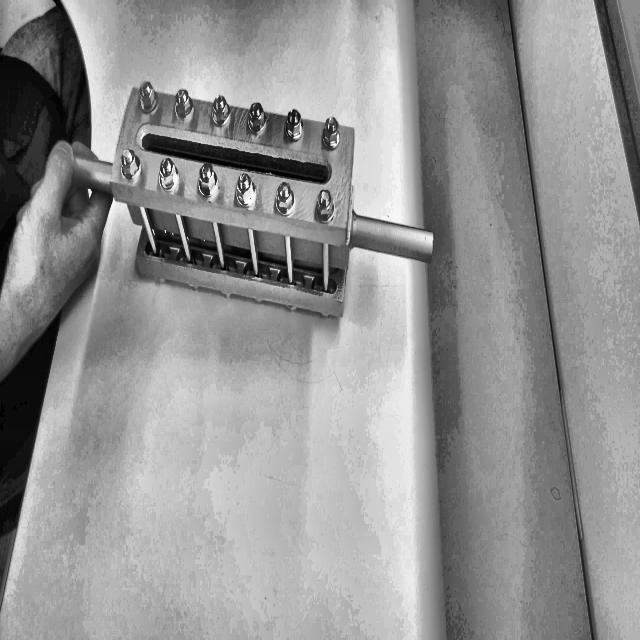ShuiWeiQi_12: (81, 50, 439, 326)
